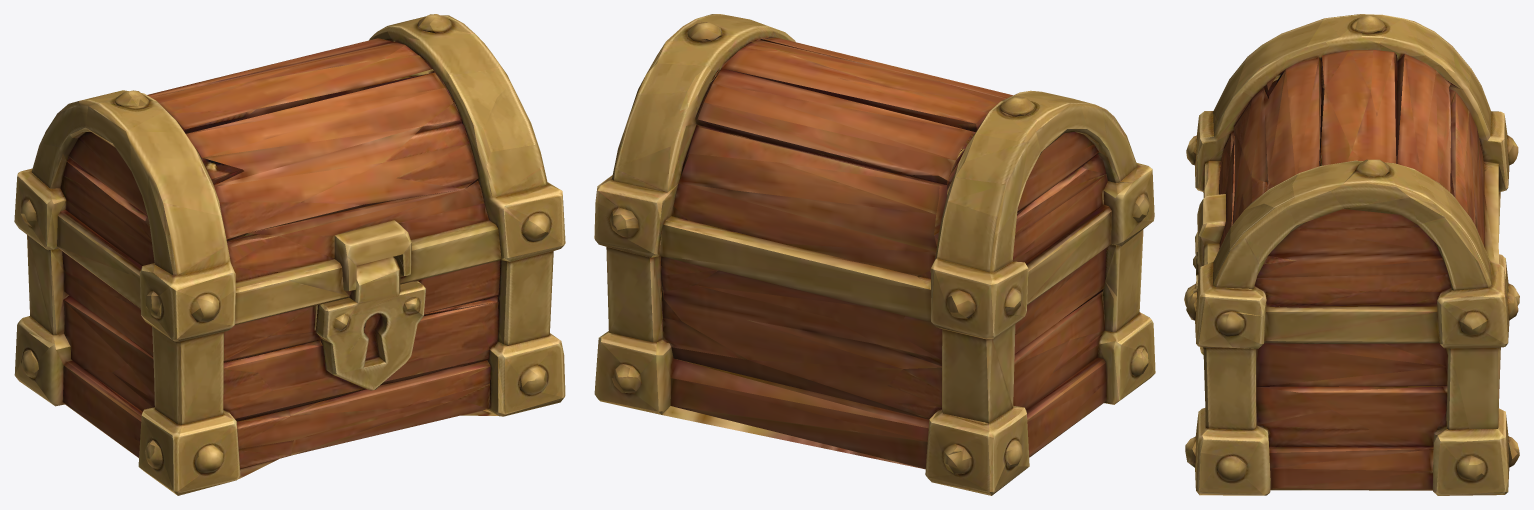
File: chest.glb
3 renders of one model, left to right at view 1: azimuth 30°, elevation 25°; view 2: azimuth 150°, elevation 25°; view 3: azimuth 270°, elevation 25°, orthographic. The views are drawn at different scales.
Parts seen in each view (by area): view 1: output_unwrapped; view 2: output_unwrapped; view 3: output_unwrapped.
Boxes of the visible parts, x1,y1,x2,y2 form: output_unwrapped: (14,14,565,495); output_unwrapped: (594,14,1155,495); output_unwrapped: (1184,14,1519,495).
Size of the model in its own units: 1.9 by 1.47 by 1.4.
1 material, 1 textured.
